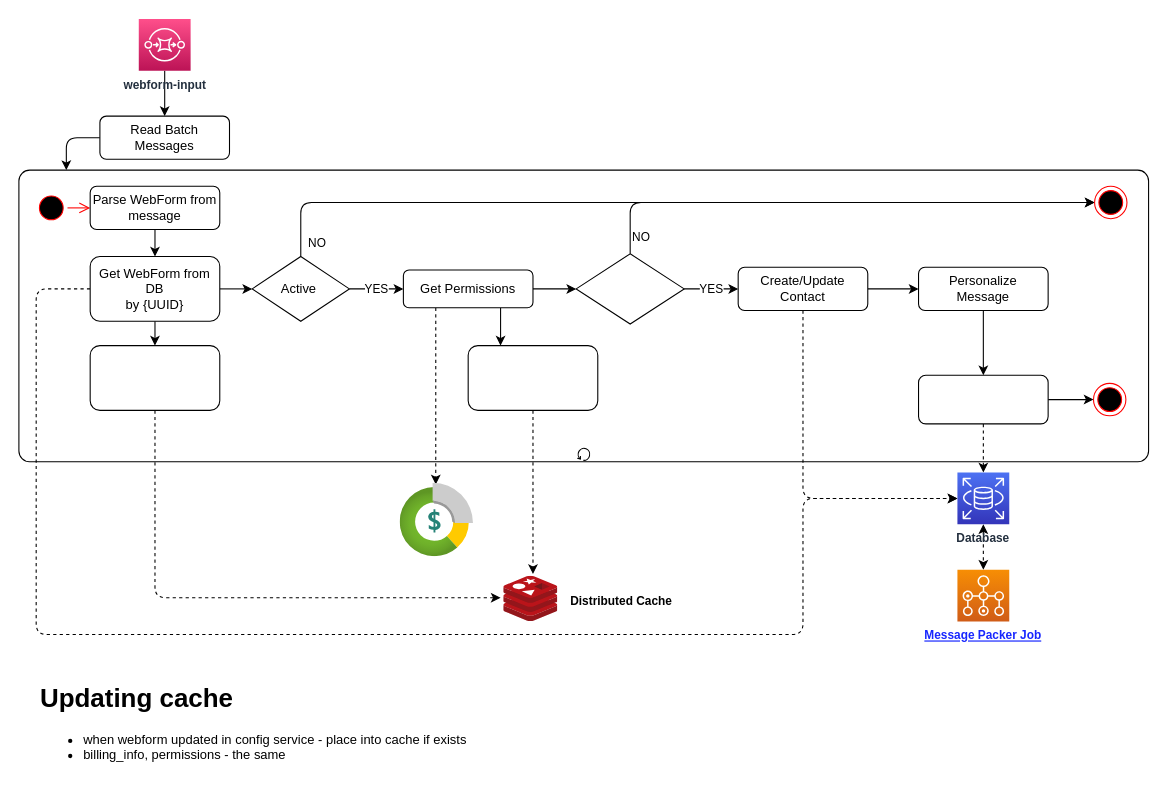
The diagram is 1167 pixels wide and 794 high, and some of its shapes have lost their labels. The shapes that lost their labels are listed below. From the top down, each one's centre as x and y in pixels, then its label:
At [629,288]: "webhooks allowed?".
At [154,377]: "Put WebForm to Cache key 'webform_'+{uuid}".
At [532,377]: "Put to Cache key 'permissions_'+{organizationId}".
At [982,399]: "Save message status: Created".
At [436,519]: "Billing Service".
